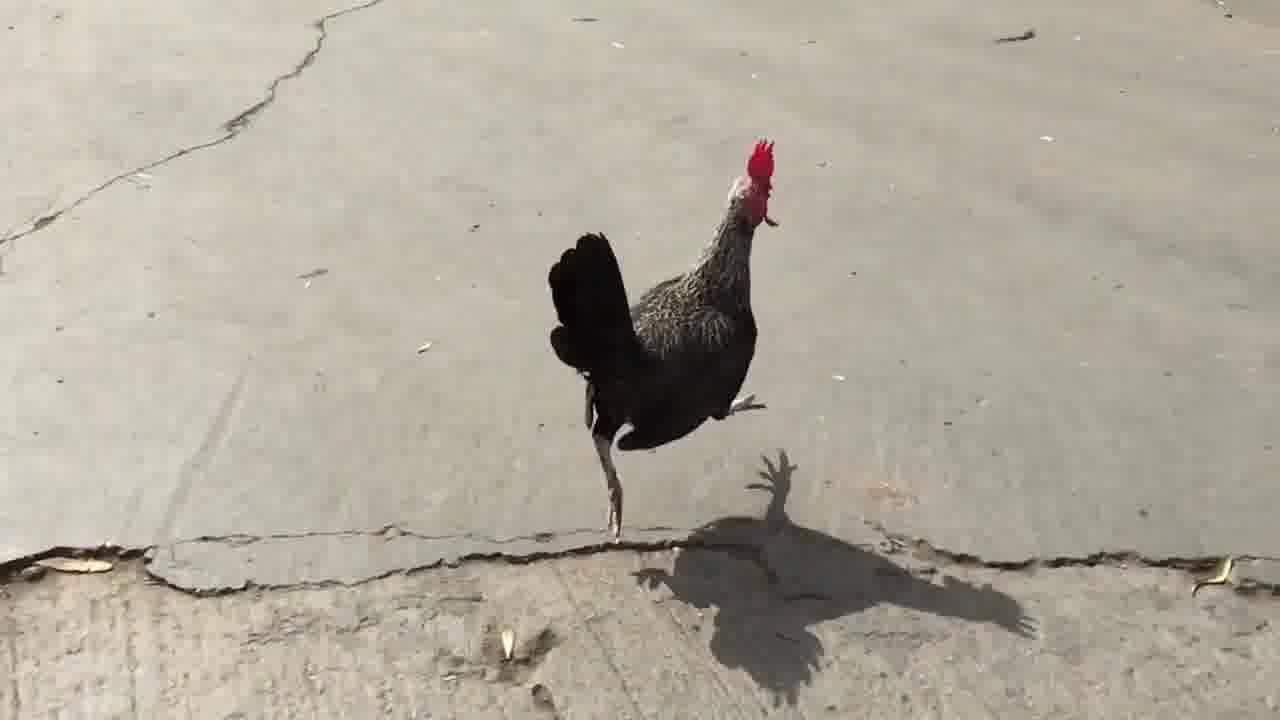Normal: (534, 140, 814, 530)
